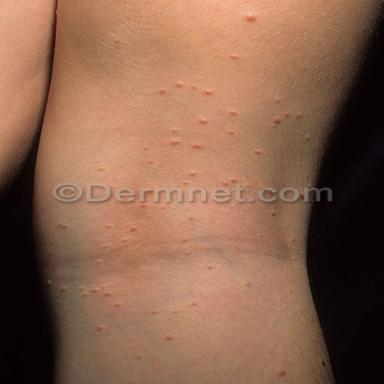Molluscum-Contagiosum: (245, 13, 256, 22), (164, 335, 175, 341), (192, 143, 202, 149), (278, 370, 286, 377), (171, 139, 180, 145), (198, 119, 208, 124), (158, 89, 167, 94), (174, 83, 183, 88), (59, 223, 68, 228), (90, 288, 99, 293), (295, 113, 302, 119), (255, 149, 262, 155), (204, 90, 212, 95), (230, 111, 238, 116), (97, 167, 105, 172), (103, 292, 111, 297), (96, 326, 104, 331), (231, 54, 238, 59), (275, 117, 280, 124), (223, 181, 230, 186), (159, 205, 166, 210), (183, 180, 190, 185), (188, 216, 195, 221), (245, 282, 252, 287), (288, 238, 295, 243), (227, 131, 235, 135), (189, 172, 197, 176), (147, 159, 155, 163), (121, 239, 129, 243), (114, 303, 122, 307), (275, 97, 280, 103), (96, 259, 102, 264), (258, 233, 264, 238), (270, 211, 276, 216), (172, 129, 179, 133), (231, 179, 238, 183), (130, 227, 137, 231), (105, 224, 112, 228), (136, 355, 143, 359), (192, 301, 197, 306), (192, 85, 198, 89), (141, 204, 147, 208), (102, 245, 110, 248), (82, 293, 88, 297), (285, 113, 290, 117), (207, 265, 212, 269), (185, 252, 190, 256), (78, 287, 84, 290), (152, 311, 158, 314), (182, 239, 188, 242), (173, 311, 179, 313)
